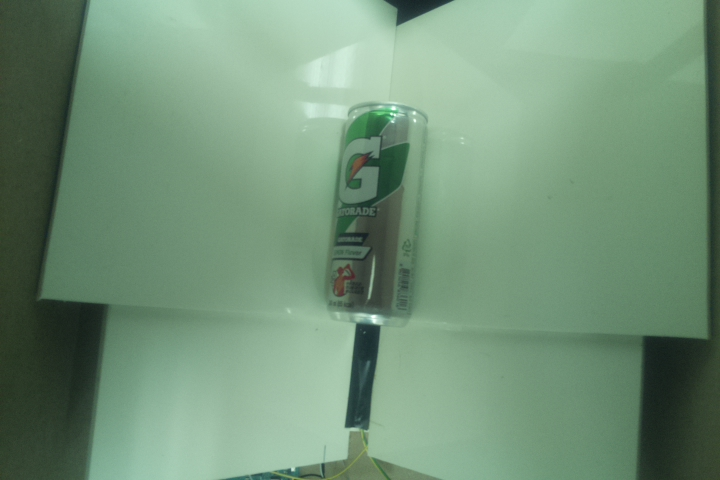can: (322, 95, 429, 334)
